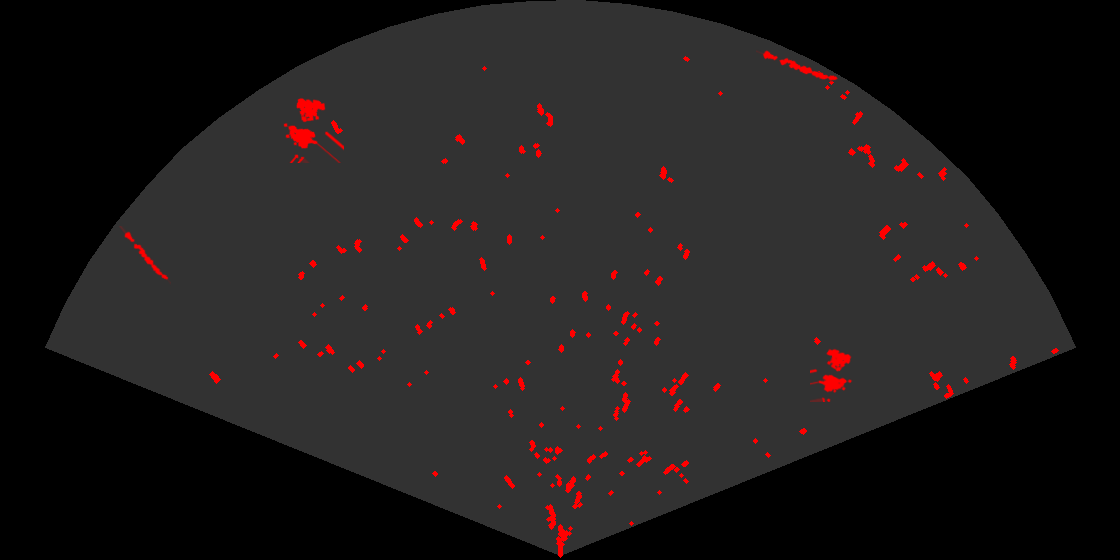cage: (282, 96, 344, 163), (810, 347, 854, 402)
chain: (118, 226, 171, 286), (756, 49, 840, 82)
